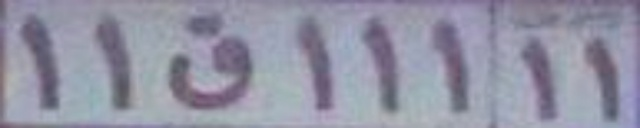1: (89, 11, 137, 110), (356, 16, 404, 111), (424, 18, 472, 113), (19, 14, 62, 112), (293, 16, 336, 113), (579, 34, 622, 121), (516, 37, 558, 122)
ghaf: (167, 14, 257, 110)
